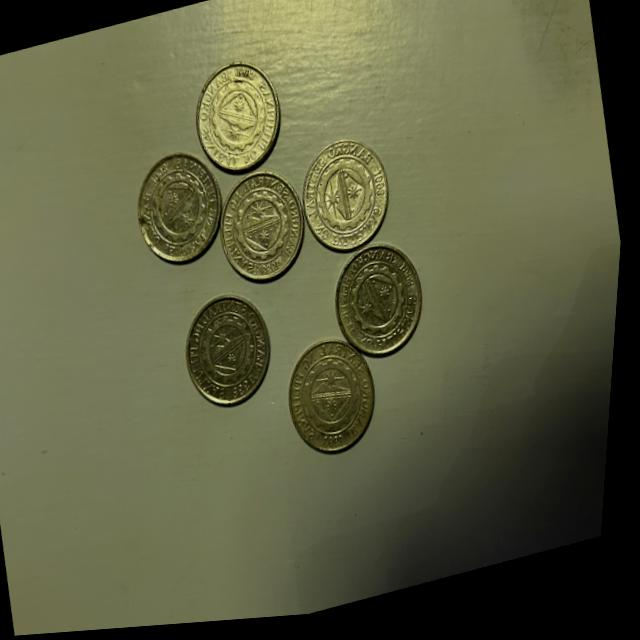1_Old_Back: (137, 161, 224, 261), (305, 149, 390, 250), (196, 72, 279, 174), (294, 351, 378, 450), (222, 181, 305, 279), (342, 256, 423, 356), (194, 304, 278, 400)
